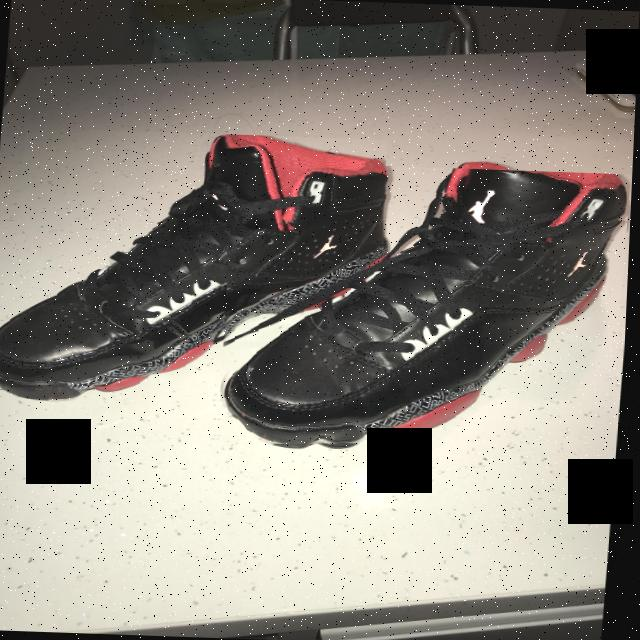shoe: (216, 160, 632, 458), (0, 126, 389, 414)
